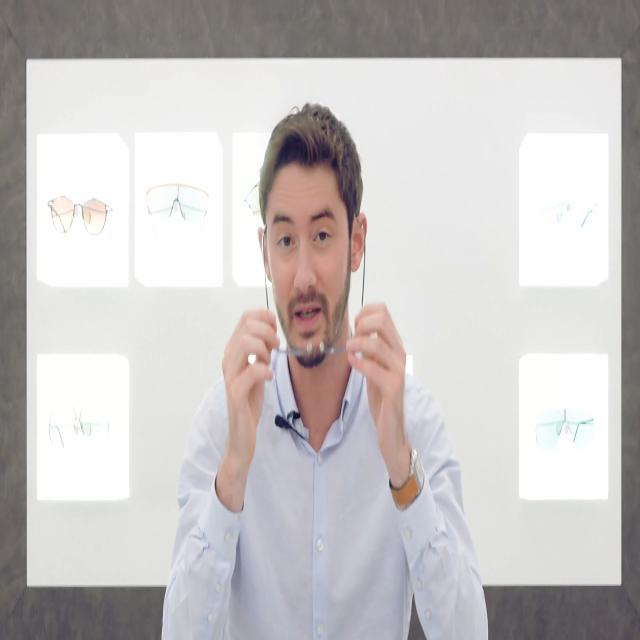dress: (162, 329, 489, 640)
glasses: (276, 333, 358, 372)
